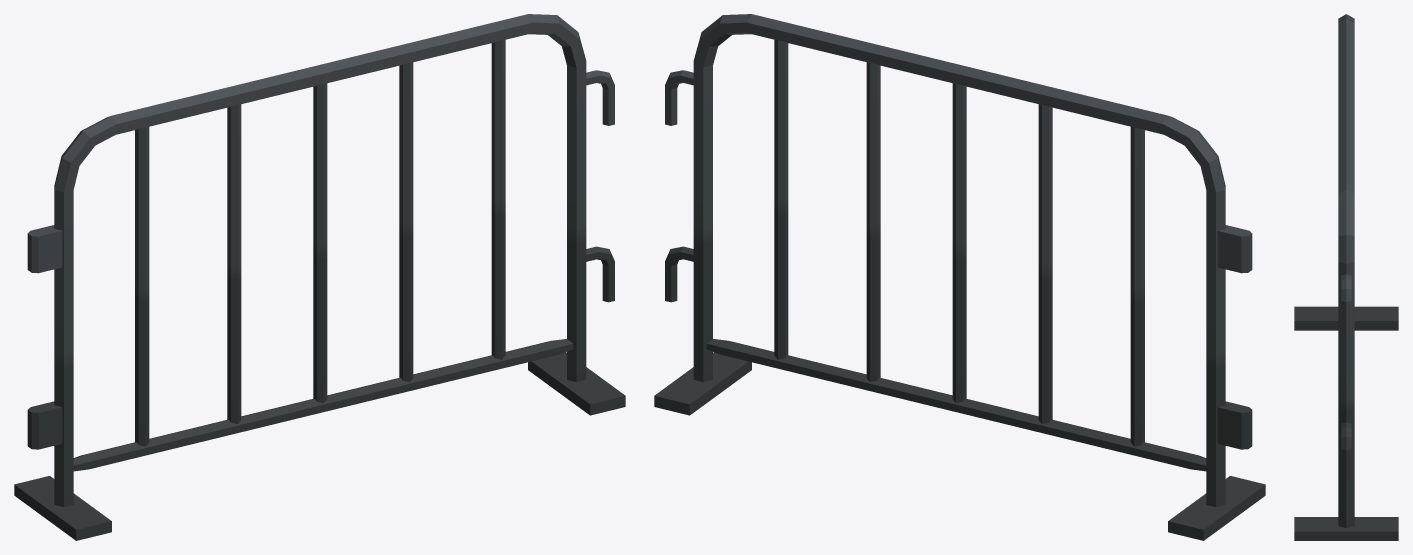
The model's file is barricade-conn.glb.
The picture shows the model from 3 angles, left to right: view 1: azimuth 30°, elevation 25°; view 2: azimuth 150°, elevation 25°; view 3: azimuth 270°, elevation 25°; orthographic projection. The views are drawn at different scales.
Parts seen in each view (by area): view 1: SM_Prop_Barricade_Connectors_01; view 2: SM_Prop_Barricade_Connectors_01; view 3: SM_Prop_Barricade_Connectors_01.
Part boxes in pixels (bbox=[...]): SM_Prop_Barricade_Connectors_01: bbox=[14, 14, 625, 540]; SM_Prop_Barricade_Connectors_01: bbox=[654, 14, 1265, 540]; SM_Prop_Barricade_Connectors_01: bbox=[1294, 14, 1398, 540].
Size of the model in its own units: 191 by 120 by 35.07.
Materials: 1 (1 with a texture image).
